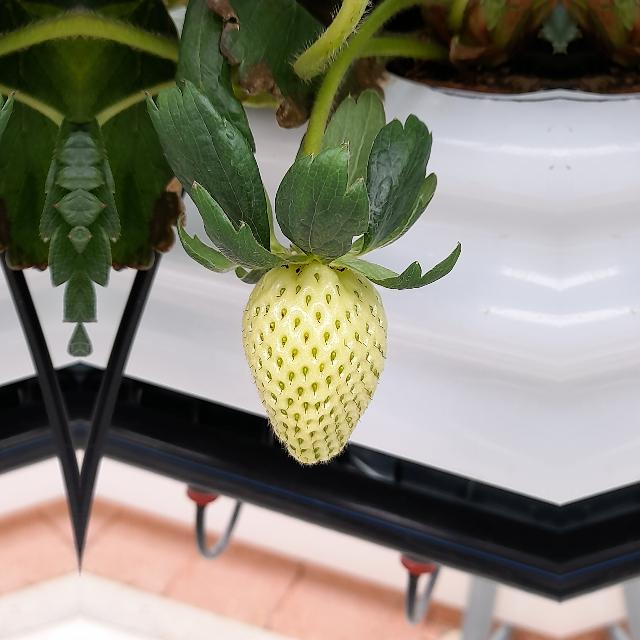Health_25: (242, 261, 386, 463)
